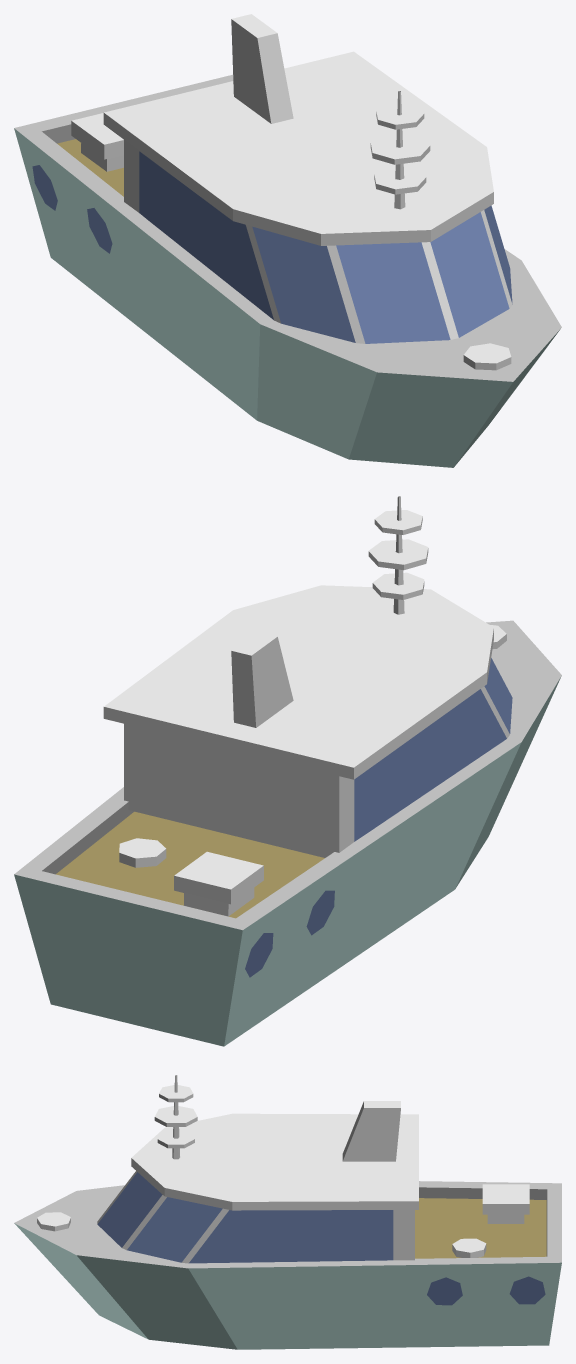
File: transport_water_001.glb
The picture shows the model from 3 angles, top to bottom: view 1: azimuth 30°, elevation 25°; view 2: azimuth 150°, elevation 25°; view 3: azimuth 270°, elevation 25°; orthographic projection. The views are drawn at different scales.
Parts seen in each view (by area): view 1: transport_water_001; view 2: transport_water_001; view 3: transport_water_001.
Boxes of the visible parts, x1,y1,x2,y2 form: transport_water_001: (14,14,561,467); transport_water_001: (14,496,561,1046); transport_water_001: (14,1075,561,1349).
Size of the model in its own units: 4 by 4.92 by 10.2.
1 material, 1 textured.
